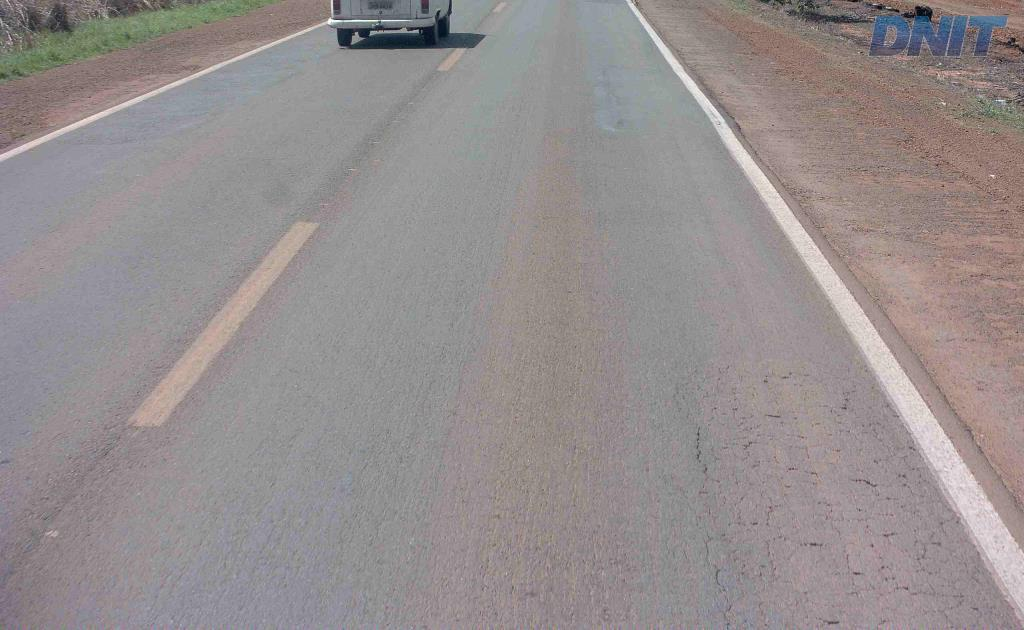crack: (702, 530, 749, 584)
